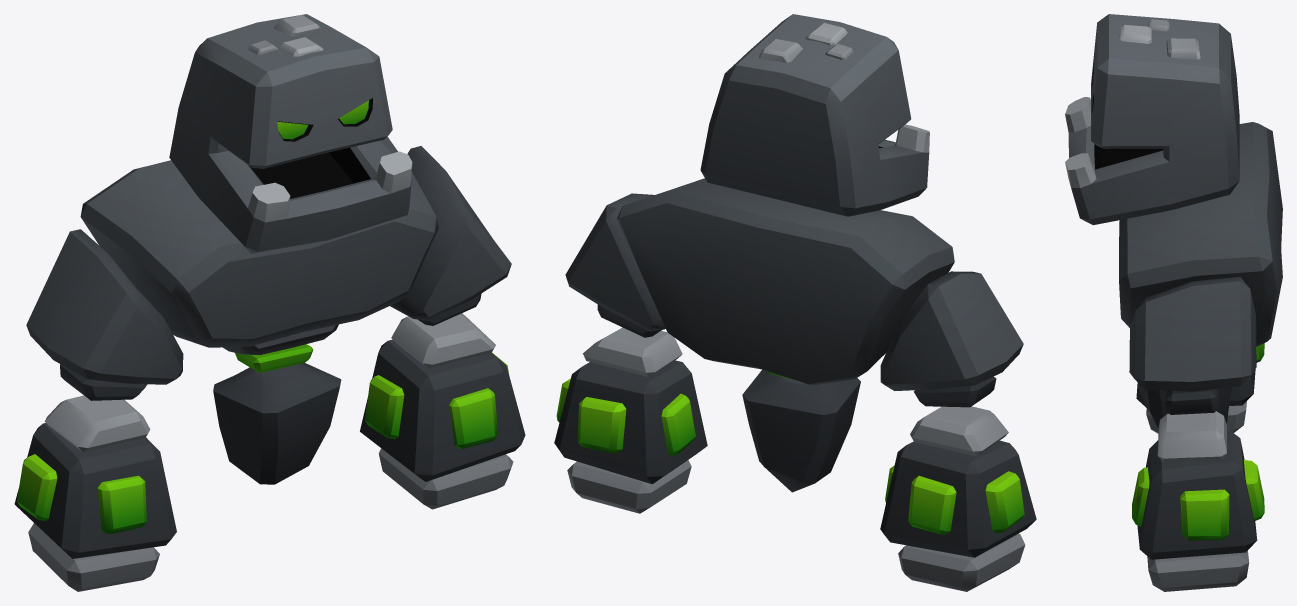
File: golem_earth.glb
3 views of the same model, side by side, from view 1: azimuth 30°, elevation 25°; view 2: azimuth 150°, elevation 25°; view 3: azimuth 270°, elevation 25° (orthographic). The views are drawn at different scales.
Visible parts, largest first — view 1: Golem Earth; view 2: Golem Earth; view 3: Golem Earth.
Part boxes in pixels (x1,y1,x2,y2): Golem Earth: (14,14,525,591); Golem Earth: (554,14,1036,591); Golem Earth: (1065,14,1282,591).
Bounding box in the file's own units: 2 × 2.05 × 0.859.
1 material, 1 textured.
